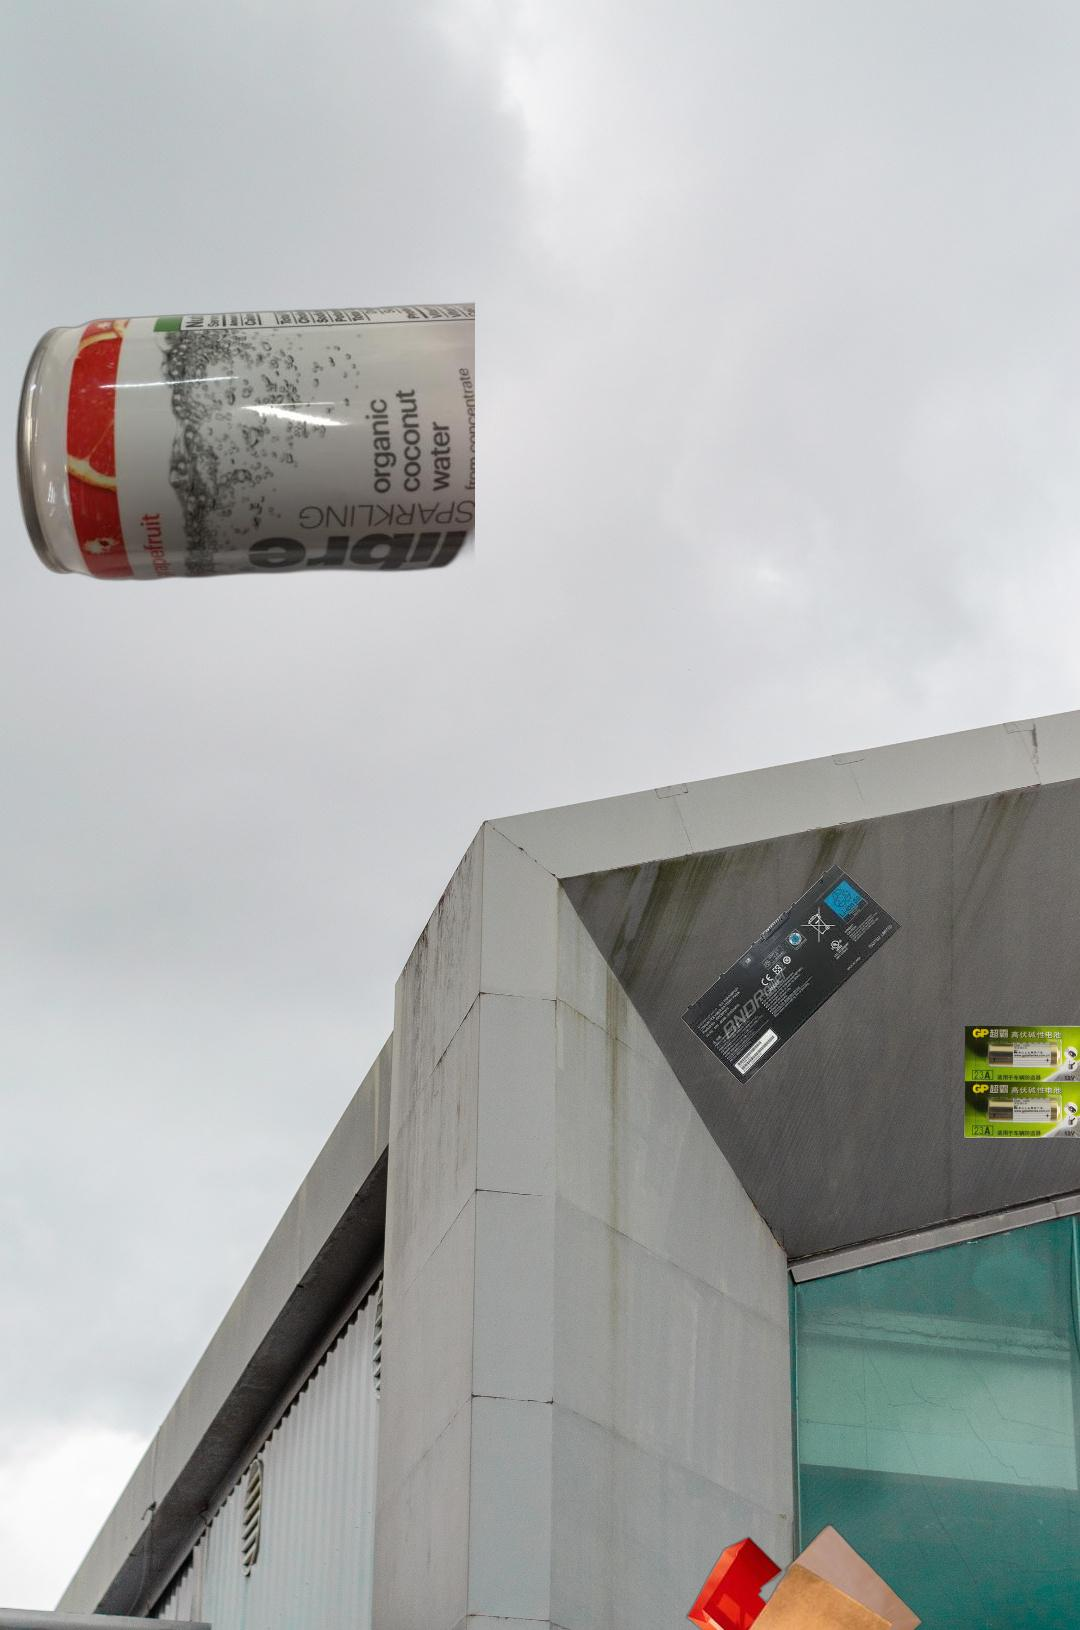battery: (679, 863, 904, 1087), (961, 1022, 1080, 1141)
metal-cans: (12, 299, 475, 599)
paper-bag: (683, 1522, 925, 1630)
